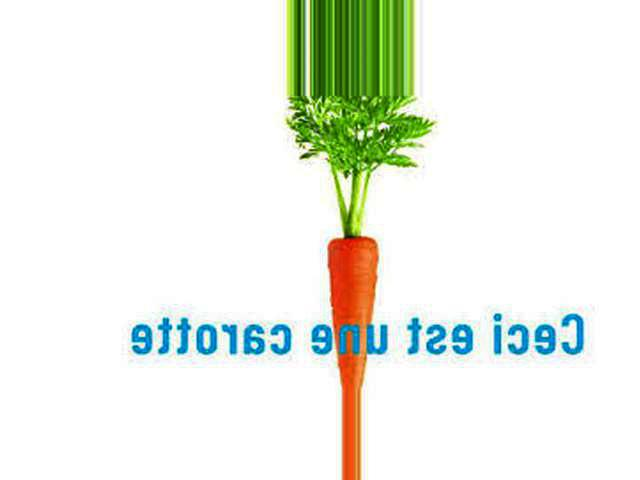carrot: (305, 218, 389, 392)
